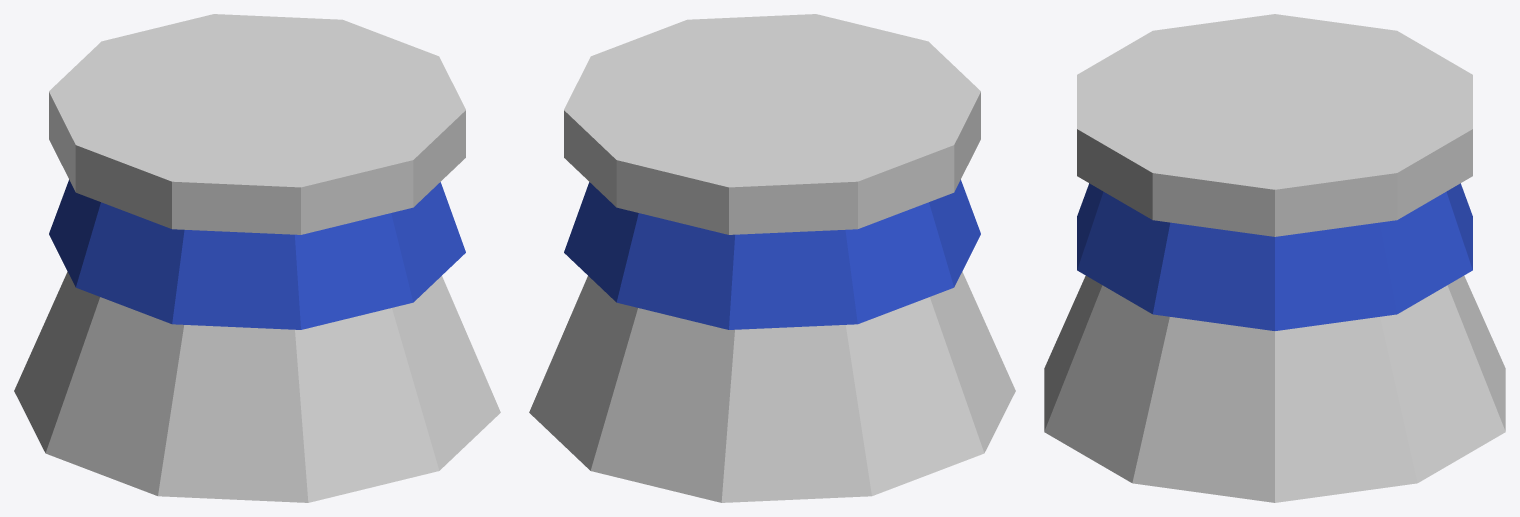
The model's file is uplight-blue.glb.
3 views of the same model, side by side, from view 1: azimuth 30°, elevation 25°; view 2: azimuth 150°, elevation 25°; view 3: azimuth 270°, elevation 25° (orthographic).
Parts seen in each view (by area): view 1: uplight-blue, glow; view 2: uplight-blue, glow; view 3: uplight-blue, glow.
Part boxes in pixels (x1=…): uplight-blue: x1=14, y1=14, x2=500, y2=502; glow: x1=49, y1=179, x2=465, y2=329; uplight-blue: x1=529, y1=14, x2=1015, y2=502; glow: x1=564, y1=179, x2=980, y2=329; uplight-blue: x1=1044, y1=14, x2=1505, y2=502; glow: x1=1077, y1=183, x2=1472, y2=330.
Bounding box in the file's own units: 0.322 × 0.2185 × 0.3062.
